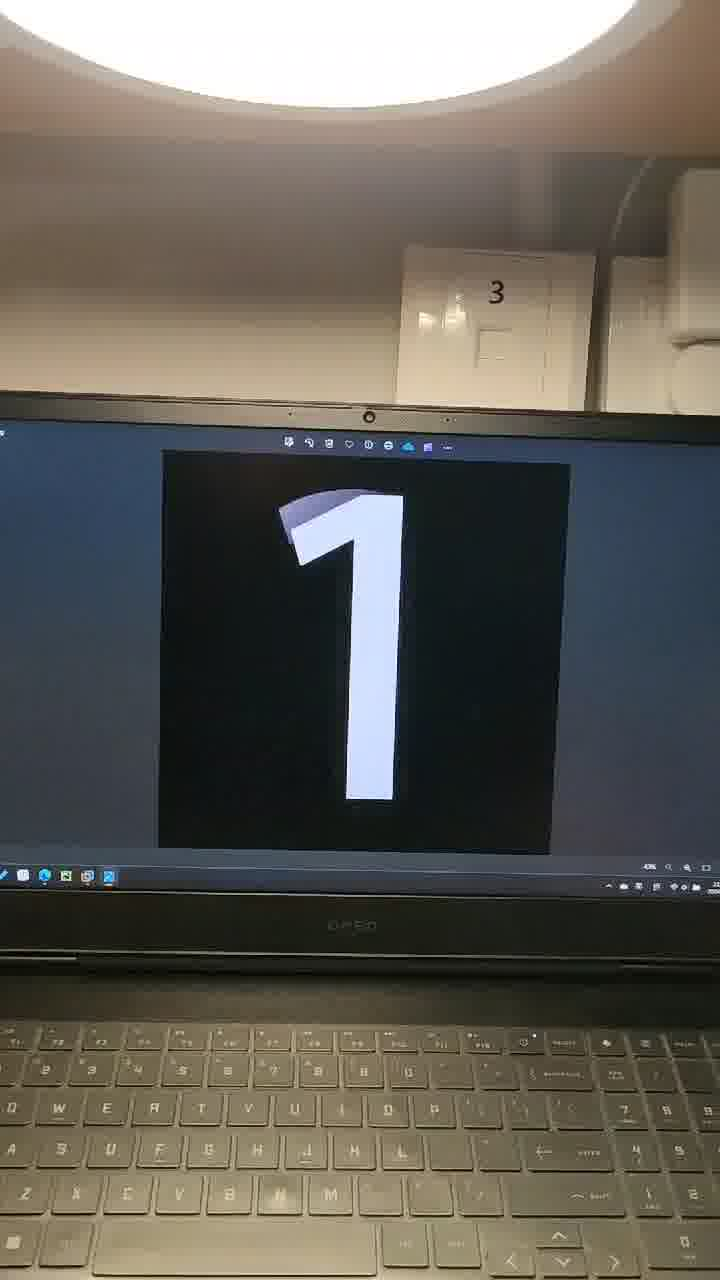one: (236, 463, 479, 826)
